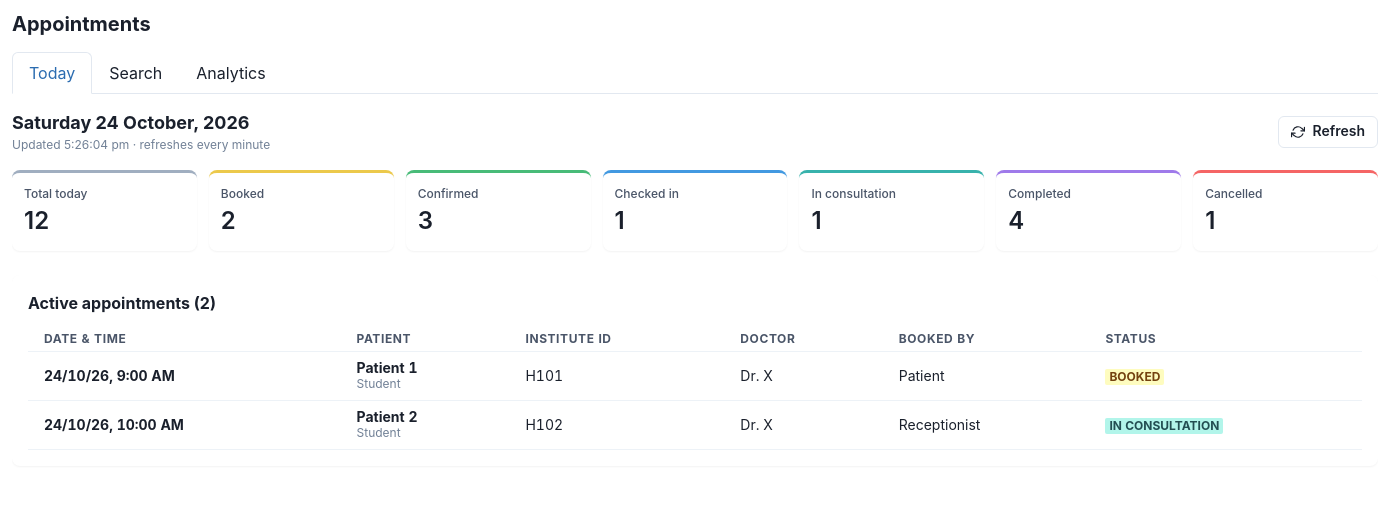
Test: Admin Appointments - Today › a failed refresh keeps showing the last good data
The image size is (1390, 531).
Expected: the text "Patient 1" is shown, [356, 359, 417, 376]
Click the button "Refresh" at (1328, 132), box [1278, 116, 1378, 148]
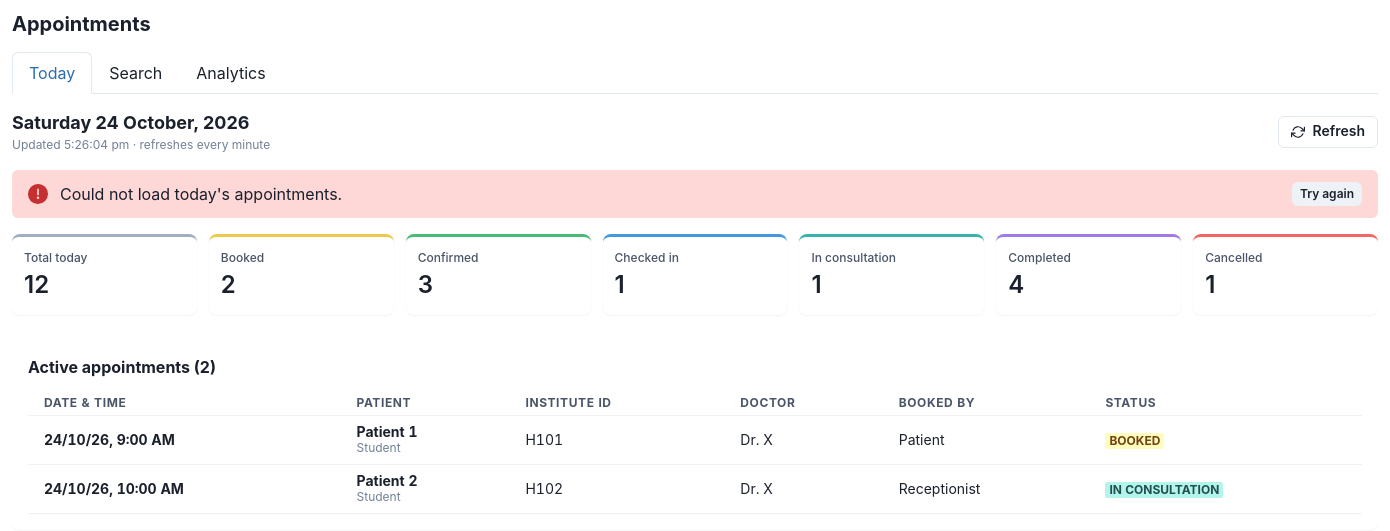
Expected: the text "Patient 1" is shown, [356, 423, 417, 440]
Expected: the text "Could not load today's appointments." is shown, [60, 184, 342, 204]
